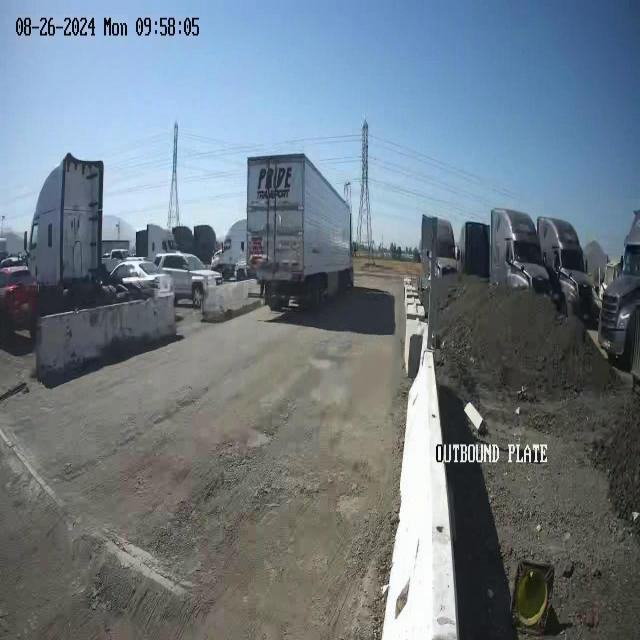TRUCK_OUT: (245, 152, 354, 312)
